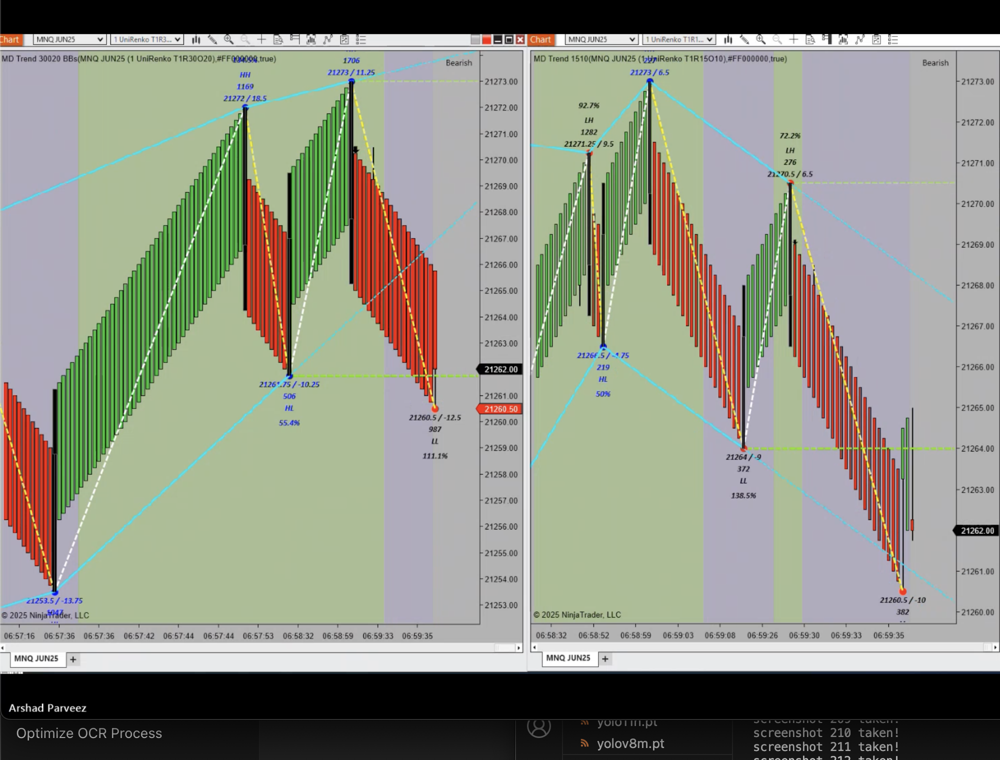HL: (594, 370, 615, 390), (279, 399, 301, 417)
LH: (581, 110, 603, 130), (781, 143, 804, 159)
LL: (423, 433, 447, 451), (733, 472, 753, 490)
